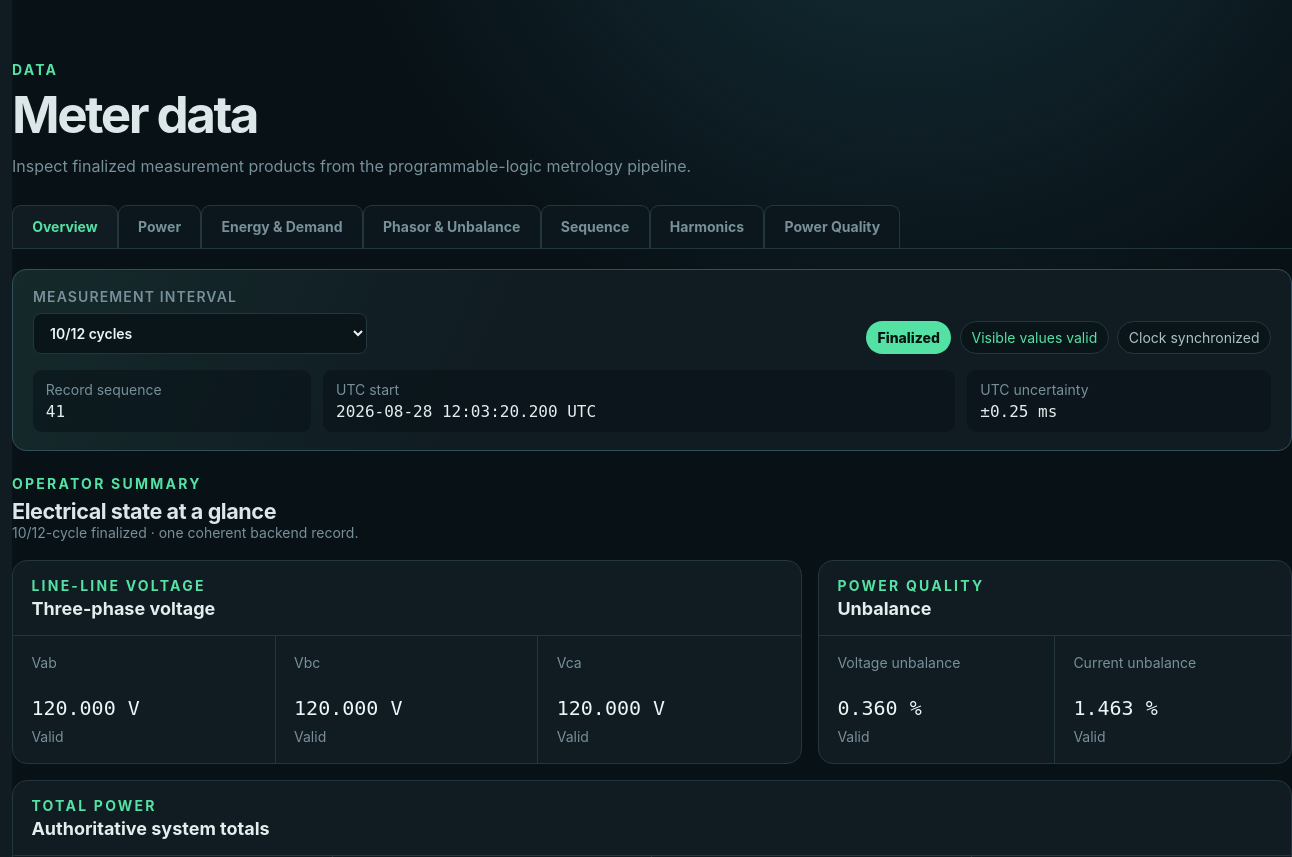
it: Reading page coherent record behavior › distinguishes invalid sequence values from unavailable fields
Click the button "Sequence" at (595, 226), box [540,205,650,248]
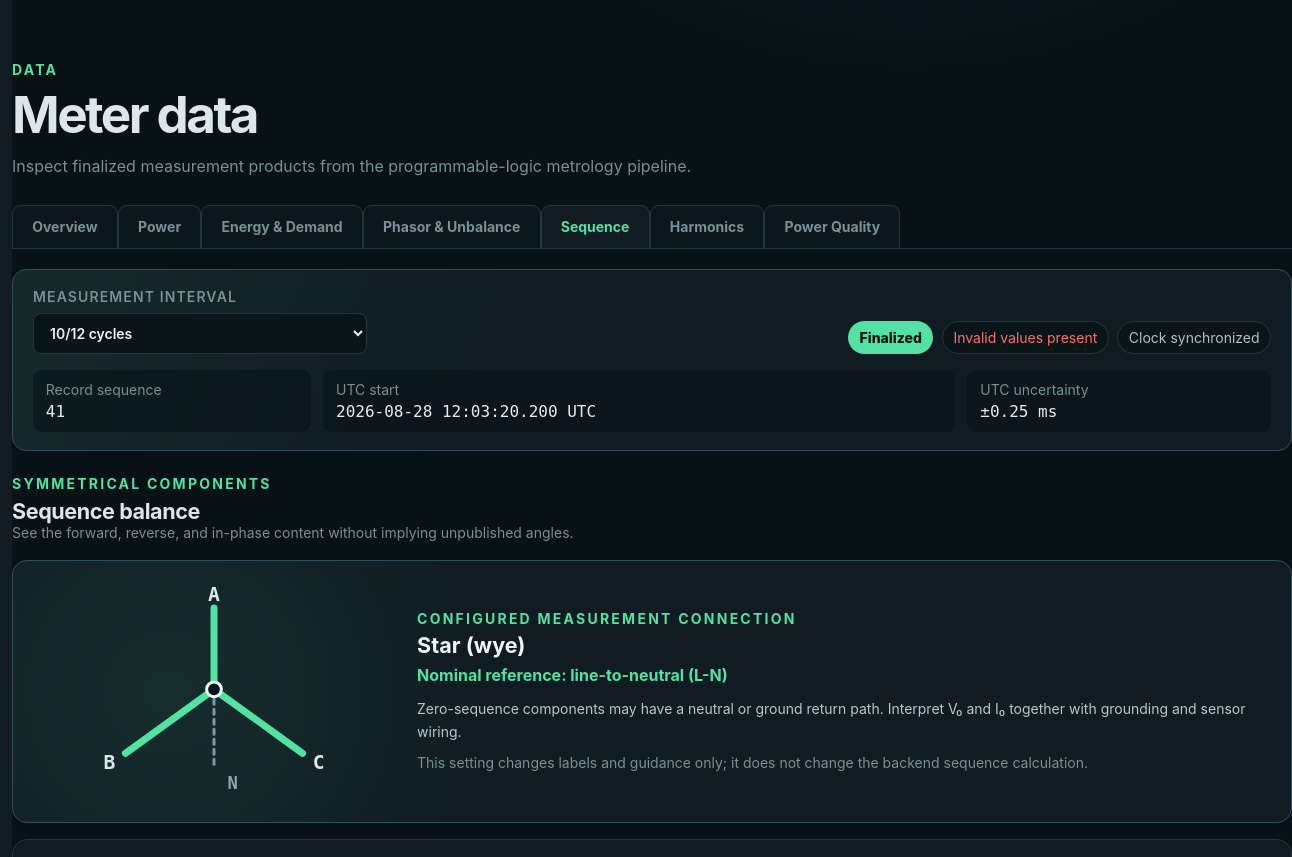
expect the text "Invalid values present" is shown: met, box [942,321,1109,354]
